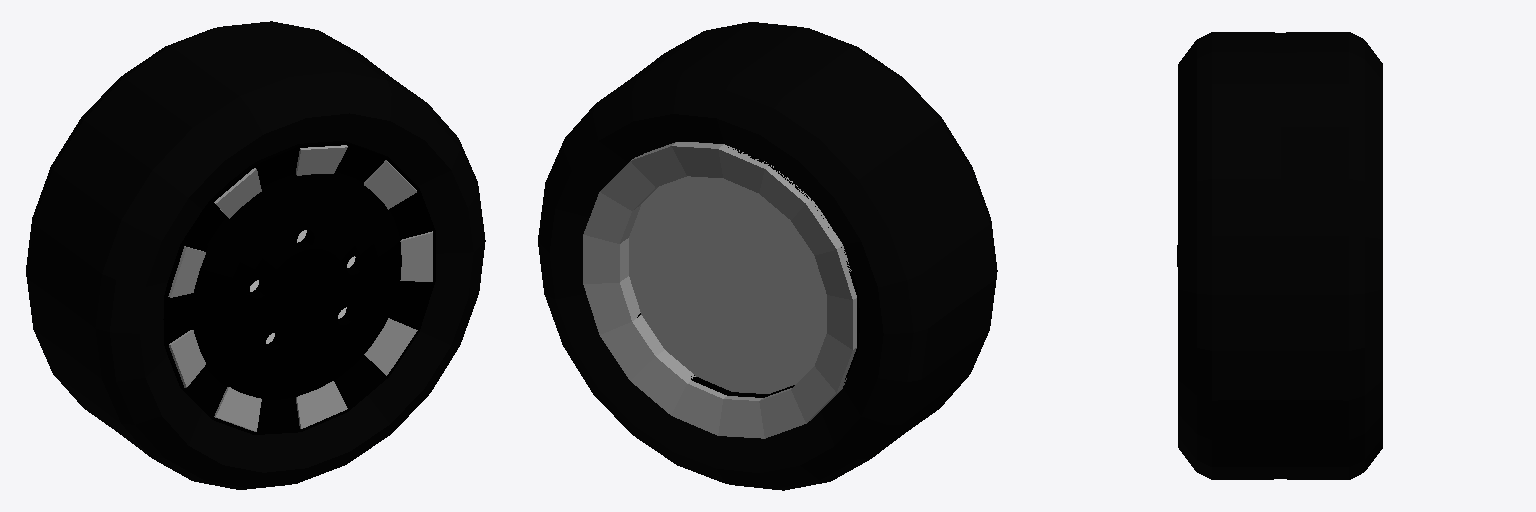
File: k_rueda_ejer.obj
3 renders of one model, left to right at view 1: azimuth 30°, elevation 25°; view 2: azimuth 150°, elevation 25°; view 3: azimuth 270°, elevation 25°, orthographic.
Visible parts, largest first — view 1: Torus01, Sphere01, Tube01, Tube02; view 2: Torus01, Cylinder01, Tube02, Tube01; view 3: Torus01.
Part boxes in pixels (x1,y1,x2,y2): Torus01: (26,21,485,489); Sphere01: (189,172,401,399); Tube01: (163,141,435,434); Tube02: (168,145,432,431); Torus01: (538,22,997,490); Cylinder01: (629,176,826,393); Tube02: (583,142,856,438); Tube01: (636,147,859,397); Torus01: (1178,32,1382,479).
Size of the model in its own units: 2.5 by 2.5 by 1.14.